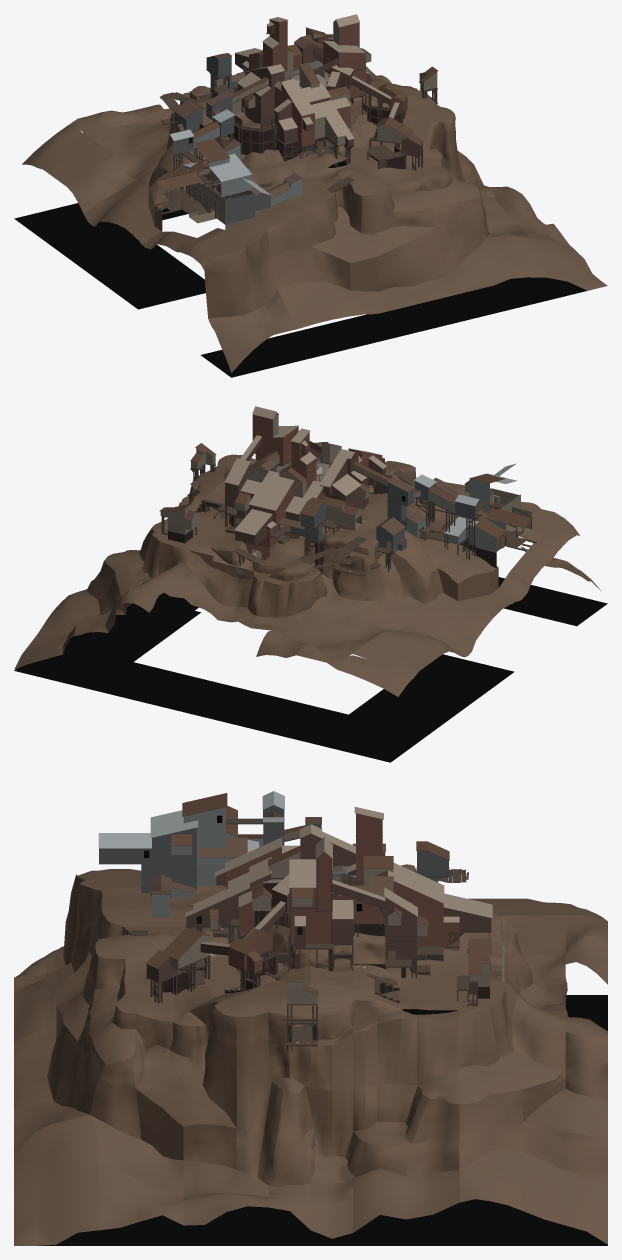
Rendered from world.glb.
3 views of the same model, one above another, from view 1: azimuth 30°, elevation 25°; view 2: azimuth 150°, elevation 25°; view 3: azimuth 270°, elevation 25° (orthographic). The views are drawn at different scales.
Visible parts, largest first — view 1: chunk_2_0_mesh, chunk_1_0_mesh, chunk_0_0_mesh, chunk_1_1_mesh, chunk_0_2_mesh, chunk_0_3_mesh, chunk_0_1_mesh, chunk_2_1_mesh, chunk_3_0_mesh, chunk_1_2_mesh, chunk_3_1_mesh, chunk_2_2_mesh (+2 smaller); view 2: chunk_0_2_mesh, chunk_2_3_mesh, chunk_1_3_mesh, chunk_0_1_mesh, chunk_0_3_mesh, chunk_1_2_mesh, chunk_3_3_mesh, chunk_2_2_mesh, chunk_0_0_mesh, chunk_3_2_mesh, chunk_1_1_mesh, model_17_func_brush_illusionary_mesh (+4 smaller); view 3: chunk_3_2_mesh, chunk_3_1_mesh, chunk_3_3_mesh, chunk_3_0_mesh, chunk_2_2_mesh, chunk_2_1_mesh, chunk_2_0_mesh, chunk_2_3_mesh, chunk_1_0_mesh, chunk_0_1_mesh, chunk_0_0_mesh, chunk_1_3_mesh (+9 smaller).
Part boxes in pixels (left/top/right/bottom): chunk_2_0_mesh: left=369, top=139, right=526, bottom=331; chunk_1_0_mesh: left=268, top=173, right=435, bottom=357; chunk_0_0_mesh: left=185, top=175, right=317, bottom=377; chunk_1_1_mesh: left=211, top=62, right=368, bottom=193; chunk_0_2_mesh: left=61, top=101, right=211, bottom=297; chunk_0_3_mesh: left=14, top=97, right=166, bottom=263; chunk_0_1_mesh: left=122, top=109, right=258, bottom=309; chunk_2_1_mesh: left=313, top=41, right=456, bottom=180; chunk_3_0_mesh: left=479, top=190, right=607, bottom=311; chunk_1_2_mesh: left=161, top=20, right=299, bottom=147; chunk_3_1_mesh: left=418, top=72, right=540, bottom=227; chunk_2_2_mesh: left=284, top=14, right=388, bottom=99; chunk_0_2_mesh: left=352, top=489, right=510, bottom=717; chunk_2_3_mesh: left=105, top=503, right=269, bottom=716; chunk_1_3_mesh: left=202, top=522, right=351, bottom=742; chunk_0_1_mesh: left=407, top=474, right=560, bottom=683; chunk_0_3_mesh: left=297, top=564, right=450, bottom=762; chunk_1_2_mesh: left=249, top=432, right=414, bottom=611; chunk_3_3_mesh: left=14, top=527, right=155, bottom=696; chunk_2_2_mesh: left=164, top=406, right=291, bottom=558; chunk_0_0_mesh: left=458, top=488, right=607, bottom=626; chunk_3_2_mesh: left=101, top=461, right=224, bottom=645; chunk_1_1_mesh: left=321, top=442, right=458, bottom=536; model_17_func_brush_illusionary_mesh: left=248, top=470, right=294, bottom=510; chunk_3_2_mesh: left=268, top=983, right=459, bottom=1245; chunk_3_1_mesh: left=136, top=982, right=318, bottom=1245; chunk_3_3_mesh: left=441, top=1009, right=607, bottom=1245; chunk_3_0_mesh: left=14, top=1058, right=183, bottom=1245; chunk_2_2_mesh: left=295, top=837, right=463, bottom=1010; chunk_2_1_mesh: left=152, top=859, right=316, bottom=1081; chunk_2_0_mesh: left=14, top=956, right=172, bottom=1153; chunk_2_3_mesh: left=457, top=911, right=607, bottom=1099; chunk_1_0_mesh: left=14, top=884, right=172, bottom=1063; chunk_0_1_mesh: left=150, top=791, right=305, bottom=904; chunk_0_0_mesh: left=14, top=848, right=170, bottom=994; chunk_1_3_mesh: left=459, top=869, right=607, bottom=1005.
Size of what is drawn, in the model's own units: 7173 by 4040 by 7168.
